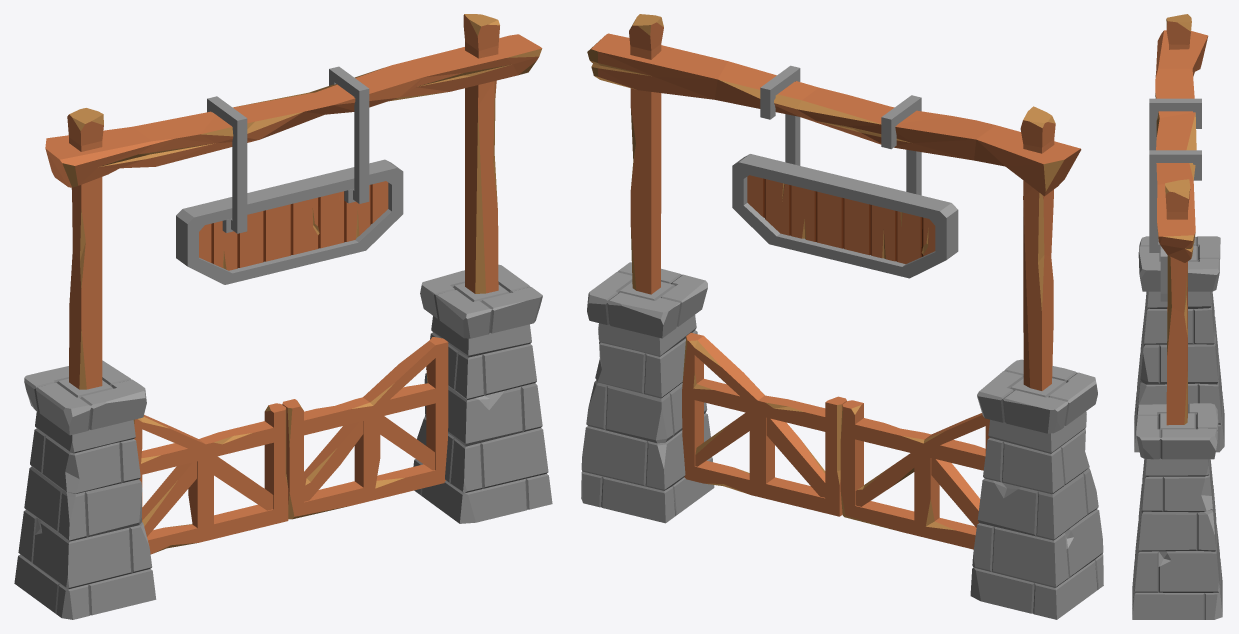
Rendered from Gate.fbx.
The picture shows the model from 3 angles, left to right: view 1: azimuth 30°, elevation 25°; view 2: azimuth 150°, elevation 25°; view 3: azimuth 270°, elevation 25°; orthographic projection. The views are drawn at different scales.
Visible parts, largest first — view 1: Gate.001, Gate_Door_Right.001, Gate_Door_Left.001; view 2: Gate.001, Gate_Door_Right.001, Gate_Door_Left.001; view 3: Gate.001.
Part boxes in pixels (x1,y1,x2,y2): Gate.001: (14, 14, 552, 619); Gate_Door_Right.001: (282, 337, 448, 519); Gate_Door_Left.001: (133, 403, 288, 554); Gate.001: (581, 14, 1103, 619); Gate_Door_Right.001: (682, 332, 846, 516); Gate_Door_Left.001: (840, 400, 989, 549); Gate.001: (1132, 14, 1224, 619).
Bounding box in the file's own units: 129 × 120 × 24.14.
